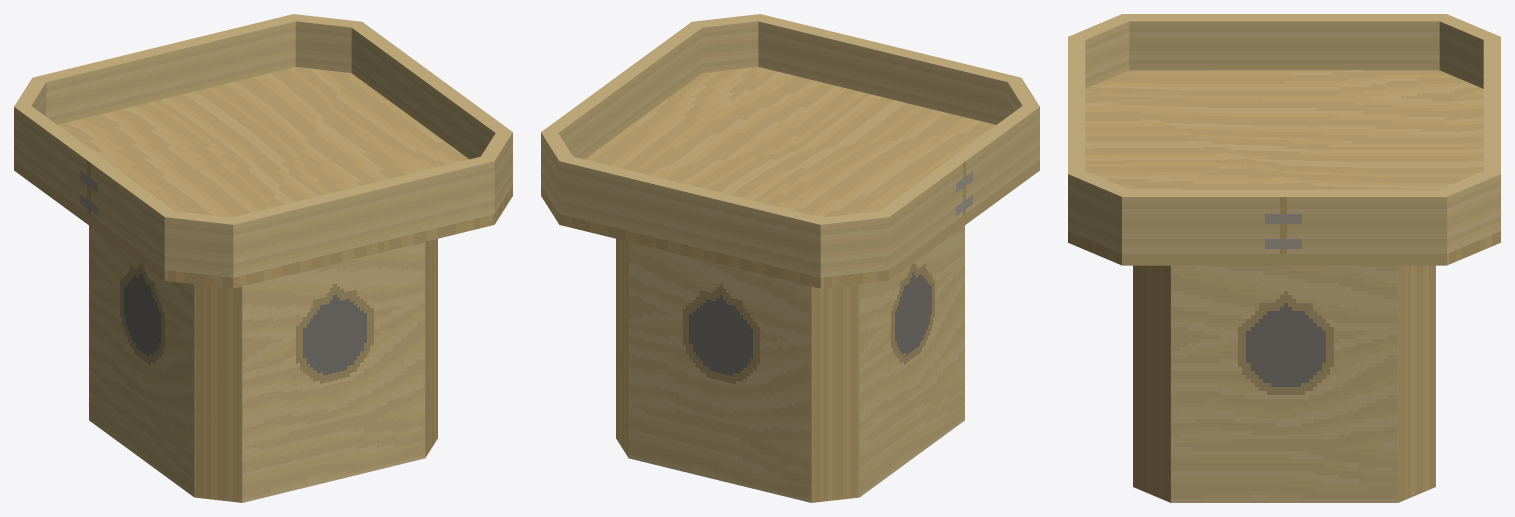
The model's file is 04c8_Stand.glb.
The picture shows the model from 3 angles, left to right: view 1: azimuth 30°, elevation 25°; view 2: azimuth 150°, elevation 25°; view 3: azimuth 270°, elevation 25°; orthographic projection. The views are drawn at different scales.
Visible parts, largest first — view 1: part_0; view 2: part_0; view 3: part_0.
Boxes of the visible parts, x1,y1,x2,y2 form: part_0: (14, 14, 512, 502); part_0: (541, 14, 1039, 502); part_0: (1068, 14, 1500, 502).
Bounding box in the file's own units: 0.2 × 0.17 × 0.2.
Materials: 1 (1 with a texture image).
